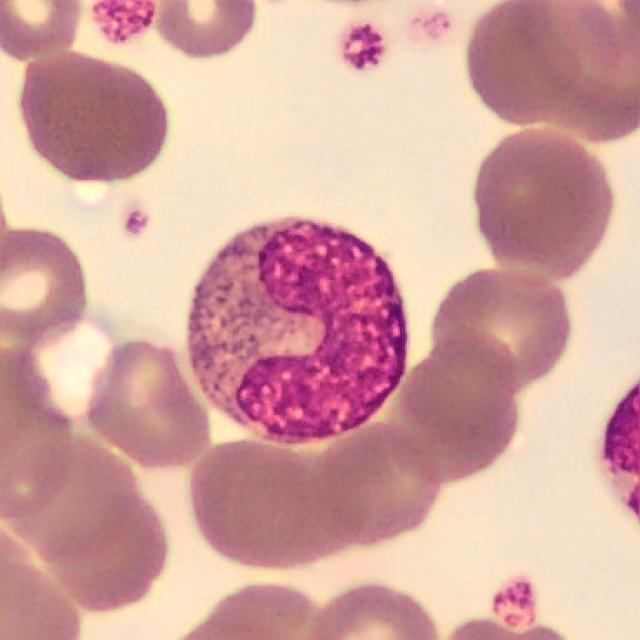Bastonete: (184, 218, 407, 445)
